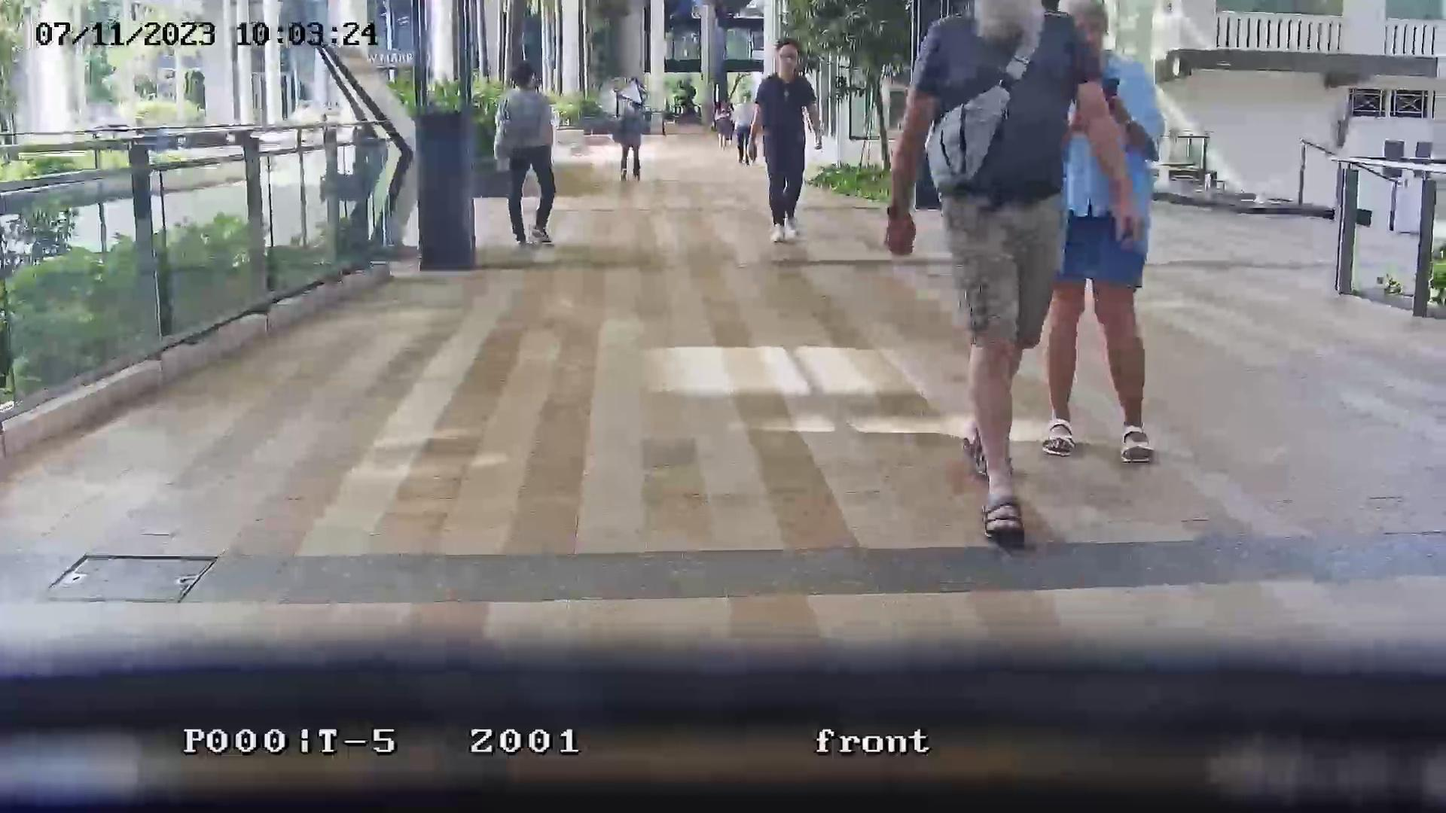person: (883, 0, 1134, 549), (1042, 0, 1164, 464), (752, 37, 822, 244), (493, 63, 557, 248), (612, 75, 650, 182), (729, 71, 759, 166)
